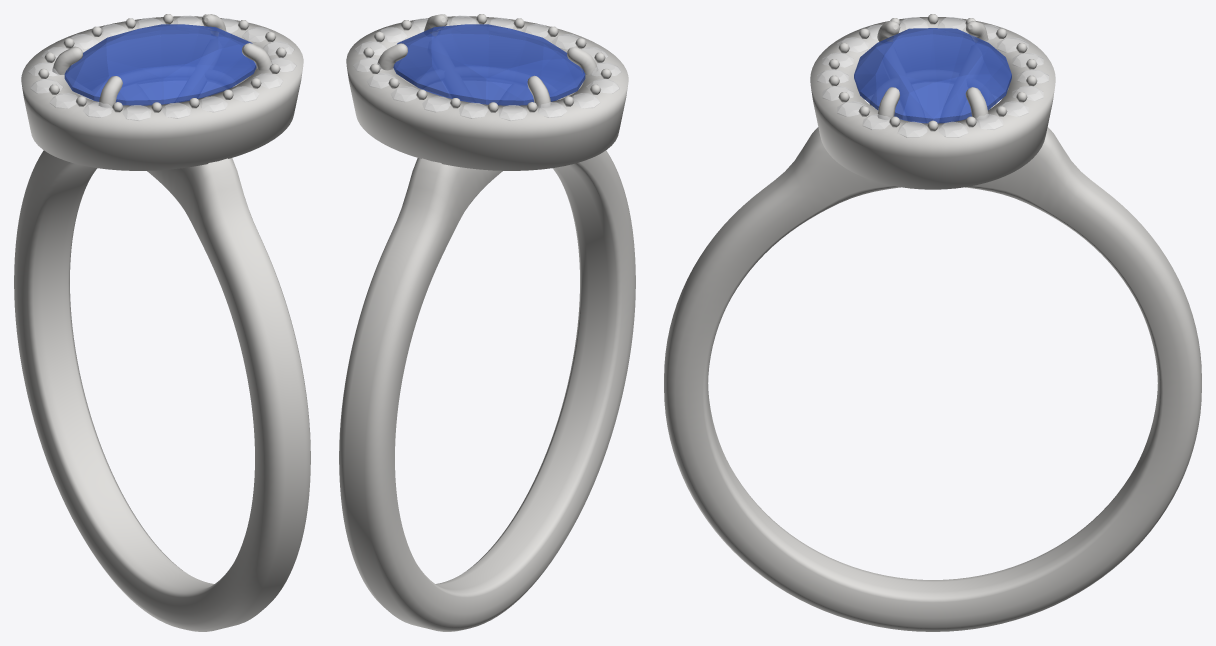
Rendered from RingSapphireHalo.obj.
3 views of the same model, side by side, from view 1: azimuth 30°, elevation 25°; view 2: azimuth 150°, elevation 25°; view 3: azimuth 270°, elevation 25° (orthographic).
Parts seen in each view (by area): view 1: Platinum, Sapphire, Diamond; view 2: Platinum, Sapphire, Diamond; view 3: Platinum, Sapphire, Diamond.
Part boxes in pixels (bbox=[...]): Platinum: bbox=[14, 14, 310, 631]; Sapphire: bbox=[64, 24, 256, 105]; Diamond: bbox=[28, 15, 296, 120]; Platinum: bbox=[339, 14, 635, 631]; Sapphire: bbox=[393, 24, 585, 105]; Diamond: bbox=[353, 15, 621, 120]; Platinum: bbox=[664, 14, 1201, 631]; Sapphire: bbox=[854, 28, 1011, 123]; Diamond: bbox=[817, 17, 1048, 137].
Bounding box in the file's own units: 0.0113 × 0.024 × 0.0205.
